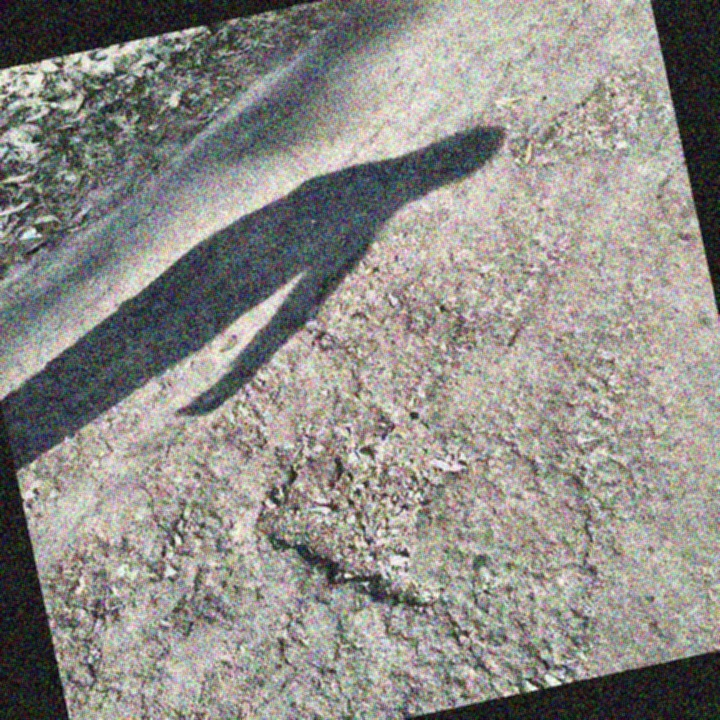pothole: (238, 403, 496, 641), (285, 209, 469, 360), (529, 69, 658, 166)
